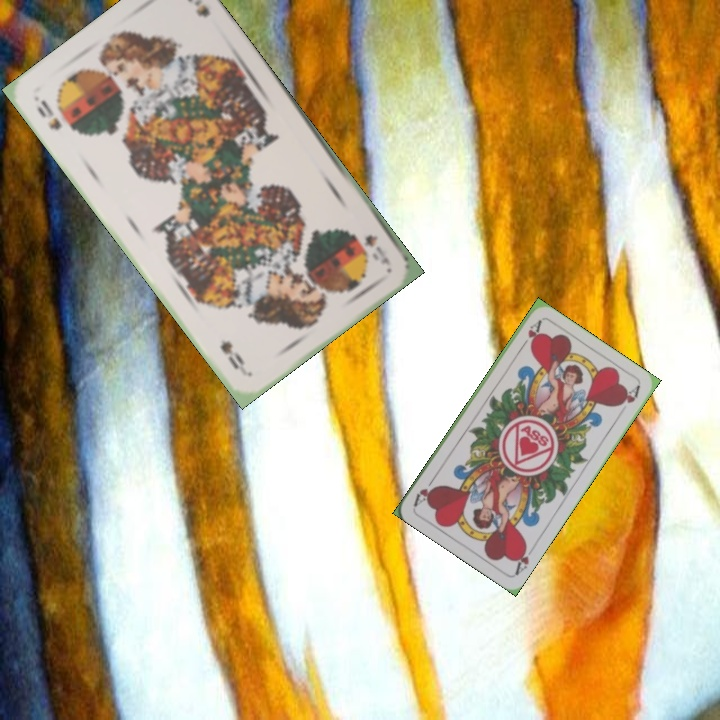HA: (511, 538, 537, 578), (516, 317, 544, 353)
SO: (31, 94, 64, 133), (359, 230, 393, 267)
